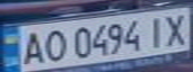0: (69, 24, 93, 58)
4: (121, 16, 148, 53), (90, 20, 112, 56)
9: (106, 20, 127, 56)
A: (15, 29, 48, 66)
I: (142, 12, 172, 50)
O: (39, 27, 69, 63)
X: (160, 10, 193, 47)
